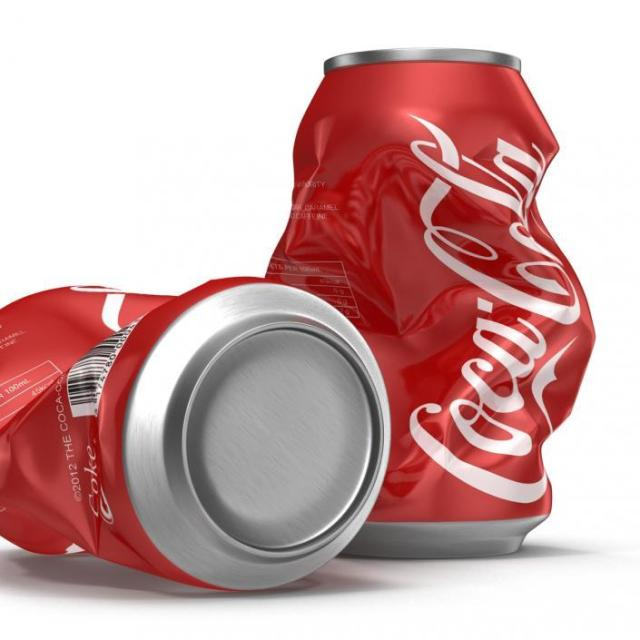can: (258, 50, 596, 562), (0, 274, 394, 595)
